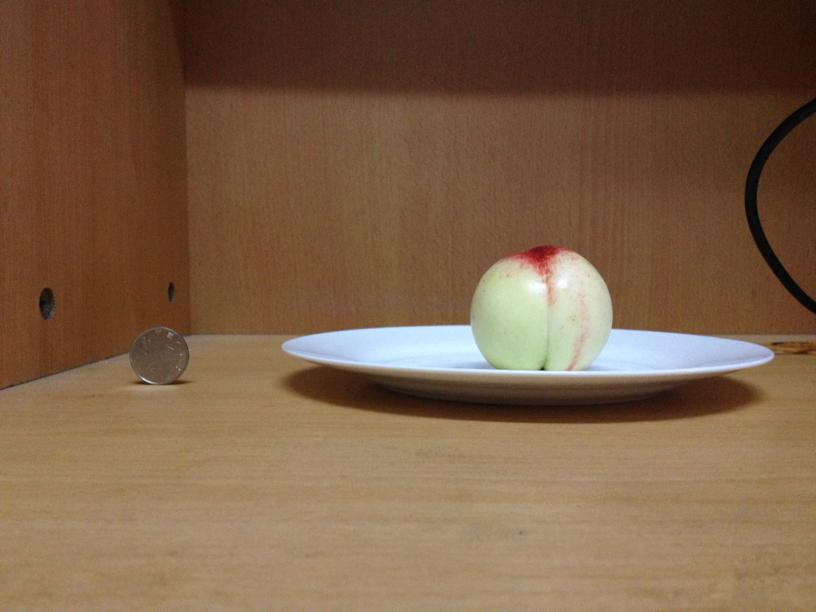coin: (126, 327, 190, 386)
peach: (468, 243, 612, 370)
